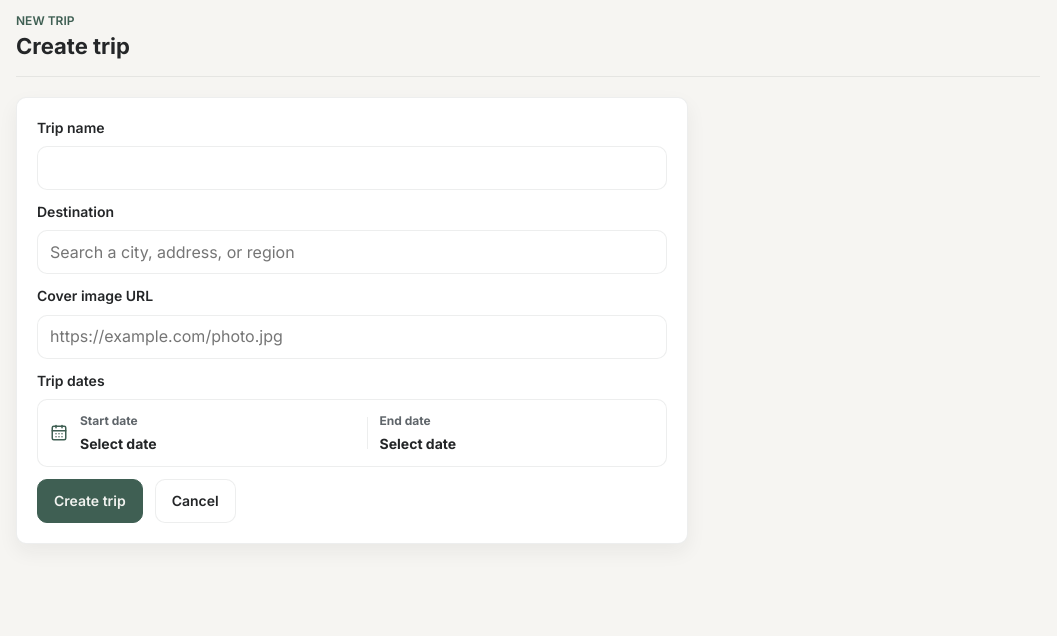
Test: <NewTripPage> › validates required fields before submitting
Click the button "Create trip" at [90, 501], box [37,479,143,523]
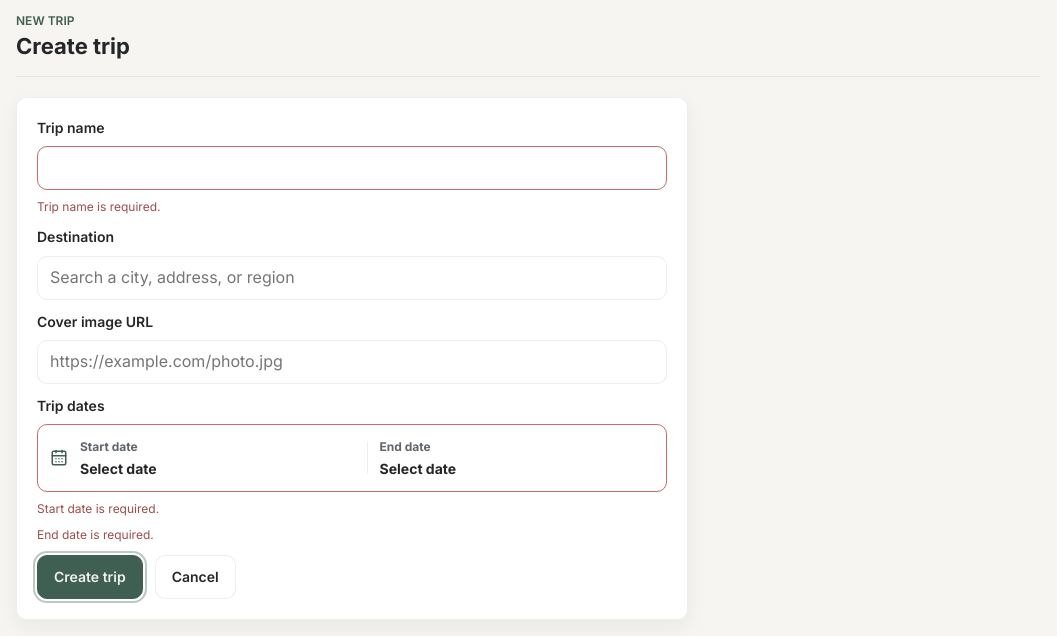
Expected: the text "Trip name is required." is shown, [37,199,160,214]
Expected: the text "Start date is required." is shown, [37,501,159,516]
Expected: the text "End date is required." is shown, [37,527,154,542]
